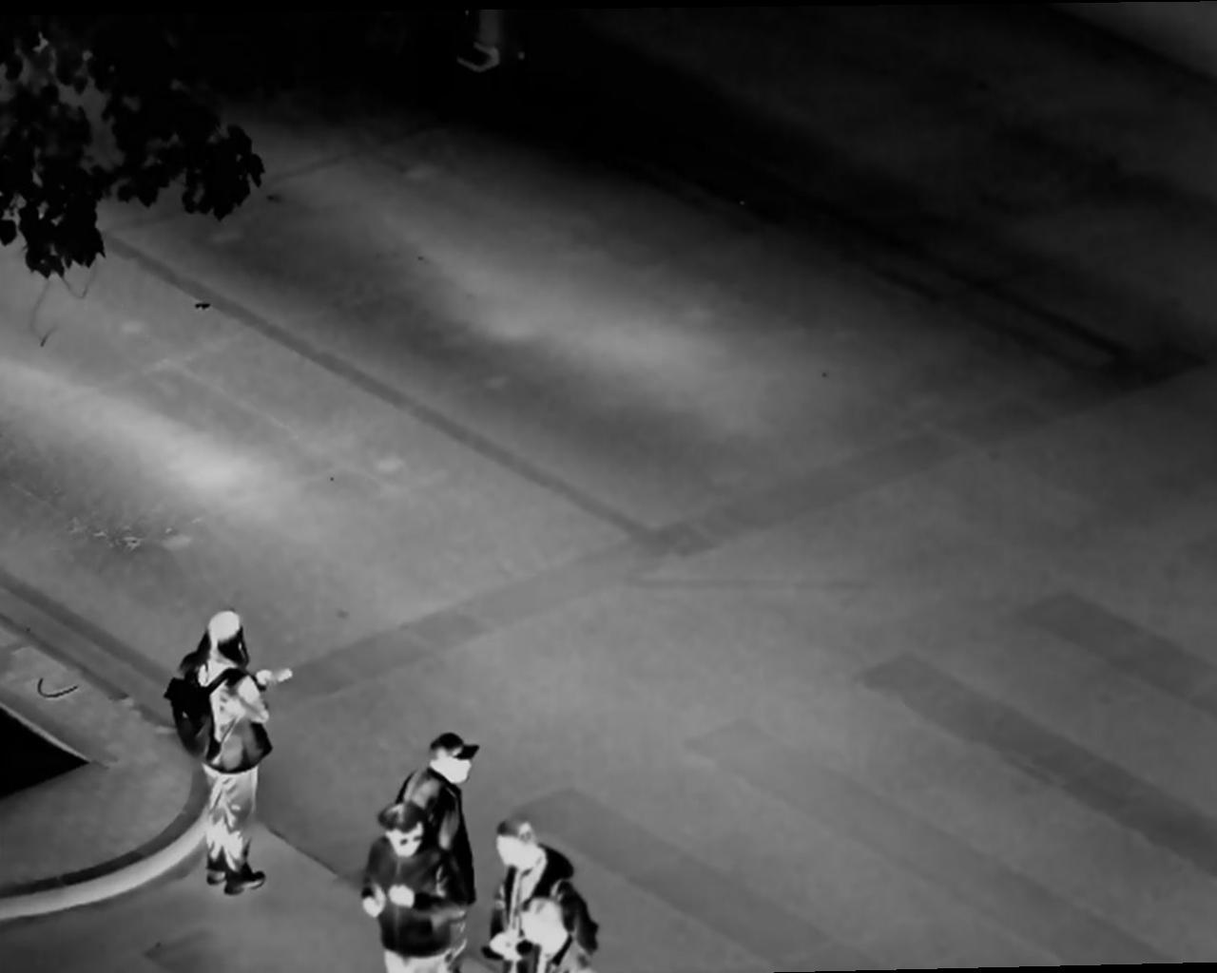person: (170, 605, 288, 900), (356, 799, 446, 973), (395, 718, 491, 861), (493, 819, 585, 916), (487, 902, 607, 973)
